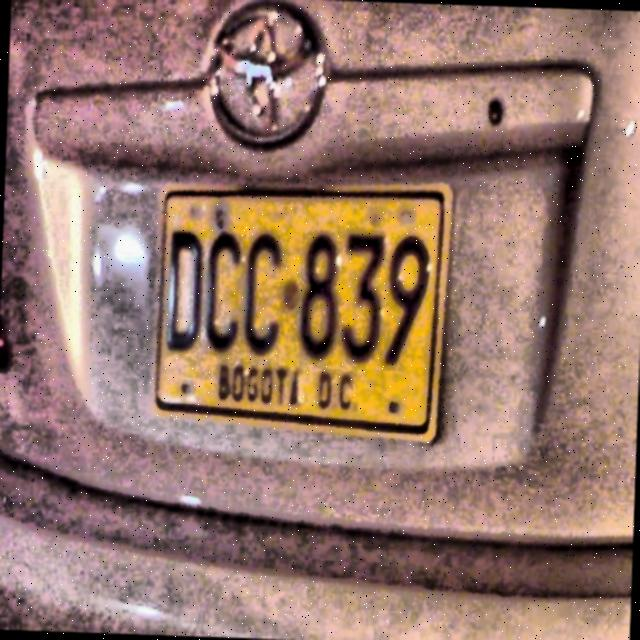plate: (153, 182, 453, 443)
